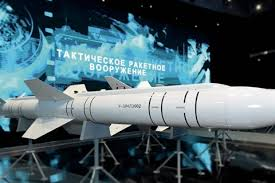ten_lua: (2, 72, 275, 141)
